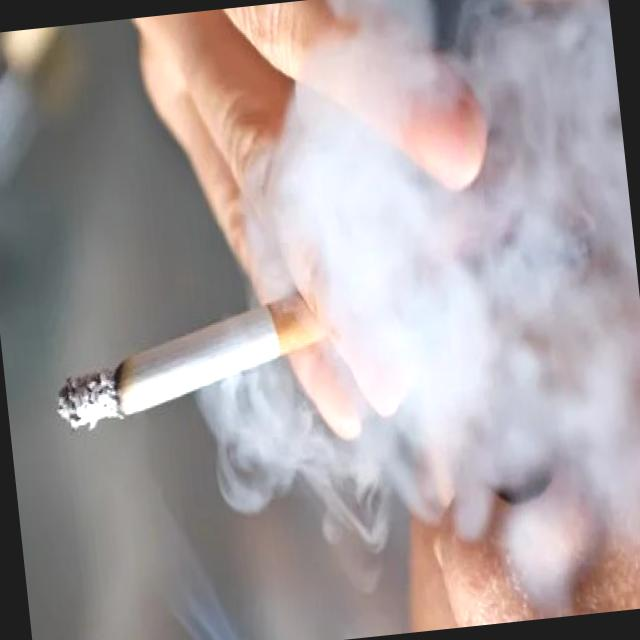cigarette: (45, 280, 338, 437)
